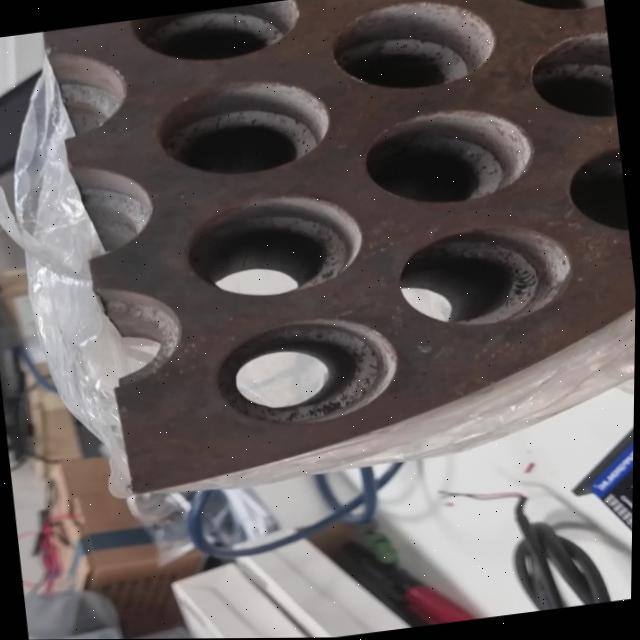Hole: (206, 309, 404, 436), (179, 184, 368, 305), (391, 218, 578, 336), (150, 70, 336, 186), (356, 100, 539, 214), (325, 0, 501, 98), (127, 0, 302, 72), (520, 31, 618, 130), (559, 146, 631, 244), (489, 0, 604, 21)
